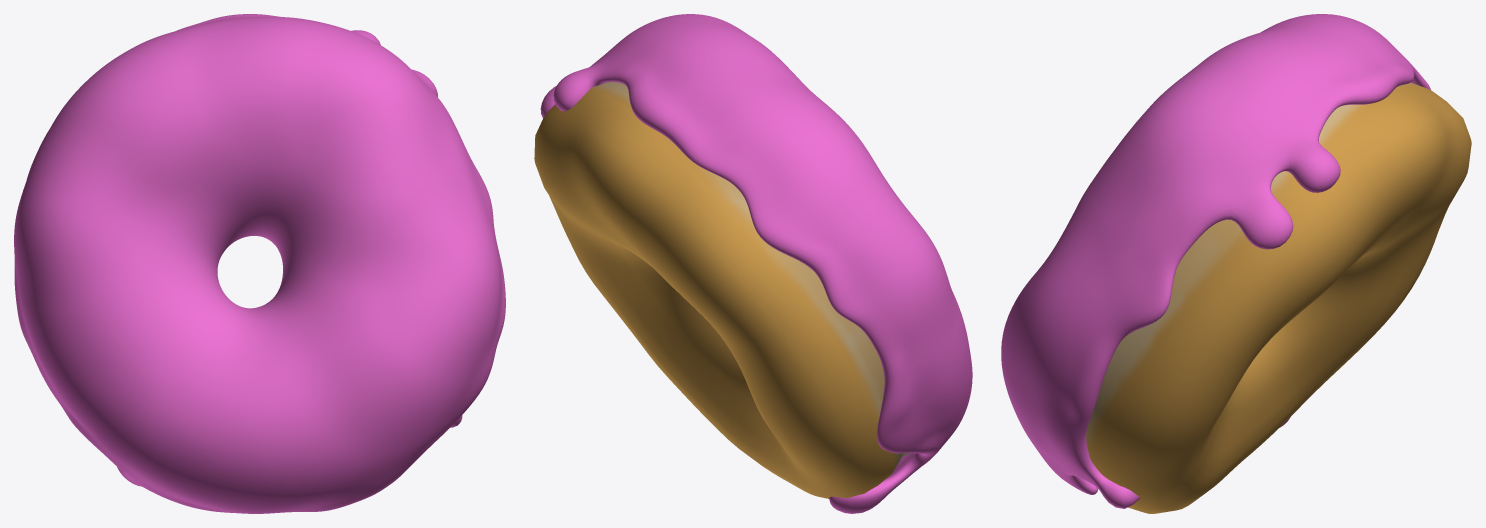
Rendered from donut.glb.
The picture shows the model from 3 angles, left to right: view 1: azimuth 30°, elevation 25°; view 2: azimuth 150°, elevation 25°; view 3: azimuth 270°, elevation 25°; orthographic projection. The views are drawn at different scales.
Parts seen in each view (by area): view 1: Icing; view 2: Donut, Icing; view 3: Donut, Icing.
Boxes of the visible parts, left/top/right/bottom form: Icing: left=14, top=14, right=505, bottom=513; Donut: left=534, top=82, right=910, bottom=498; Icing: left=540, top=14, right=972, bottom=513; Donut: left=1086, top=82, right=1471, bottom=513; Icing: left=1001, top=14, right=1430, bottom=508.
Bounding box in the file's own units: 0.0965 × 0.0985 × 0.0894.
2 materials, 1 textured.
